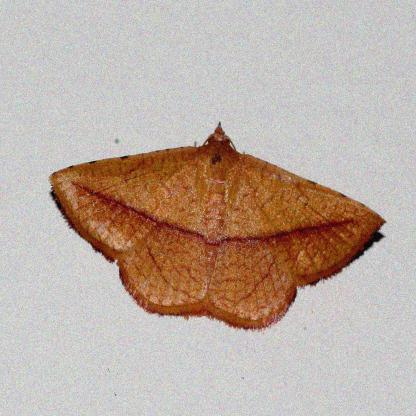Leaf Webber: (46, 124, 388, 332)
